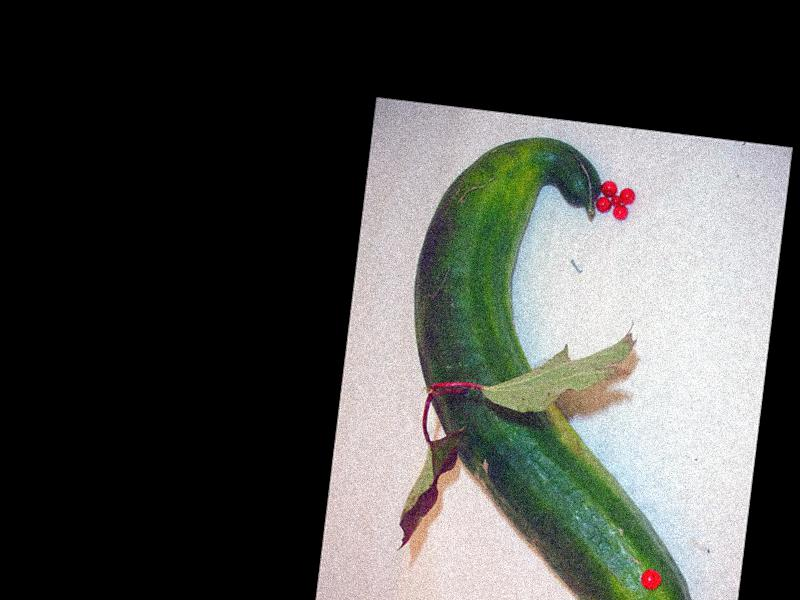Cucumber: (374, 124, 747, 600)
